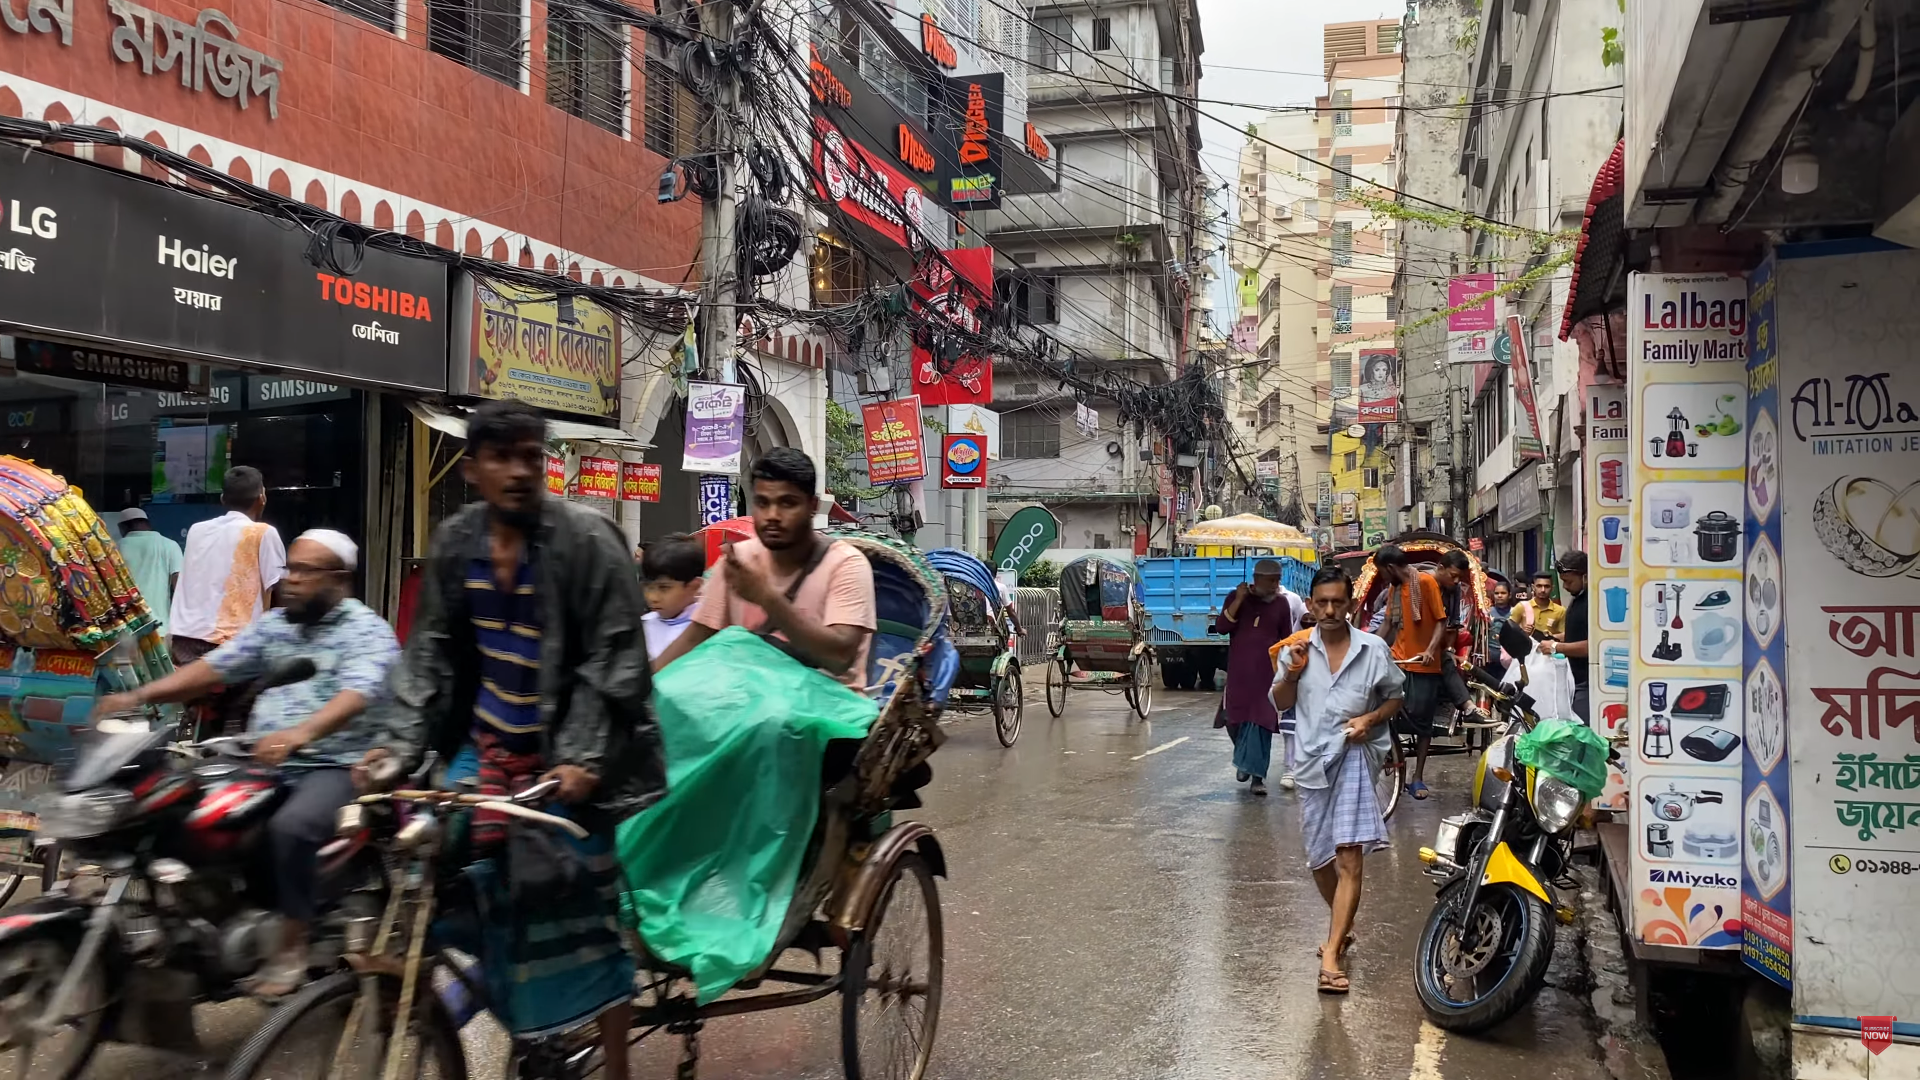Motorcycle: (1414, 652, 1734, 1076)
Pedestrian: (1263, 562, 1405, 995)
Rickshaw: (370, 435, 960, 1076), (1035, 549, 1179, 731)
